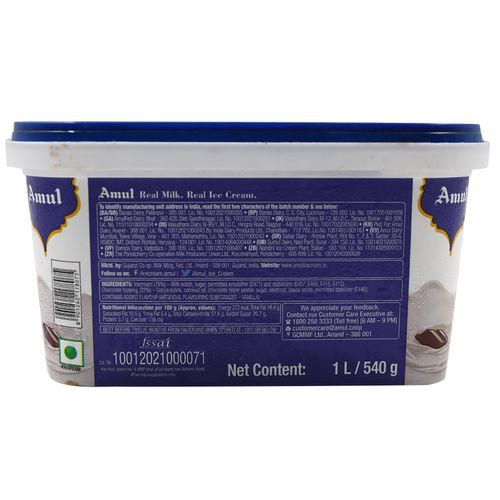Amul: (429, 185, 468, 211), (28, 186, 64, 210), (96, 185, 135, 202)
